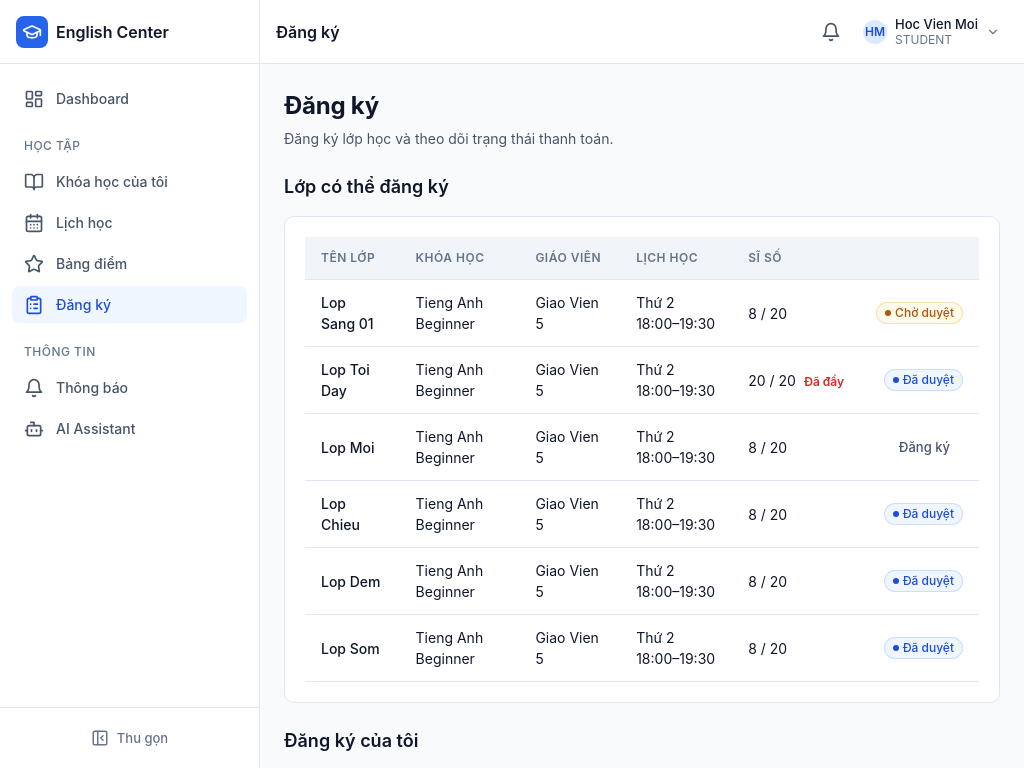
Test: StudentRegistrationsPage › shows backend 400 message when registration create fails
Expected: the heading "Đăng ký của tôi" is shown, top-left (284, 730), bottom-right (418, 751)
Step 1. Click the button with aria-label "Đăng ký lớp Lop Moi" → (924, 447), box top-left (886, 431), bottom-right (963, 463)
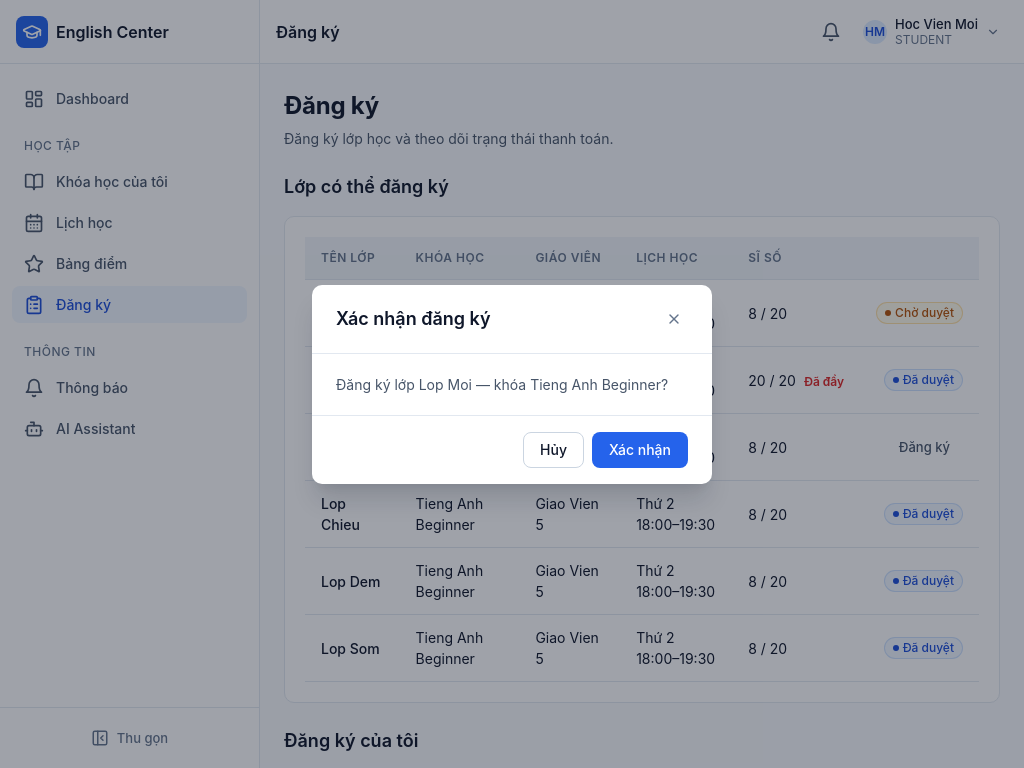
Step 2. Click the button "Xác nhận" → (640, 450), box top-left (592, 432), bottom-right (688, 468)
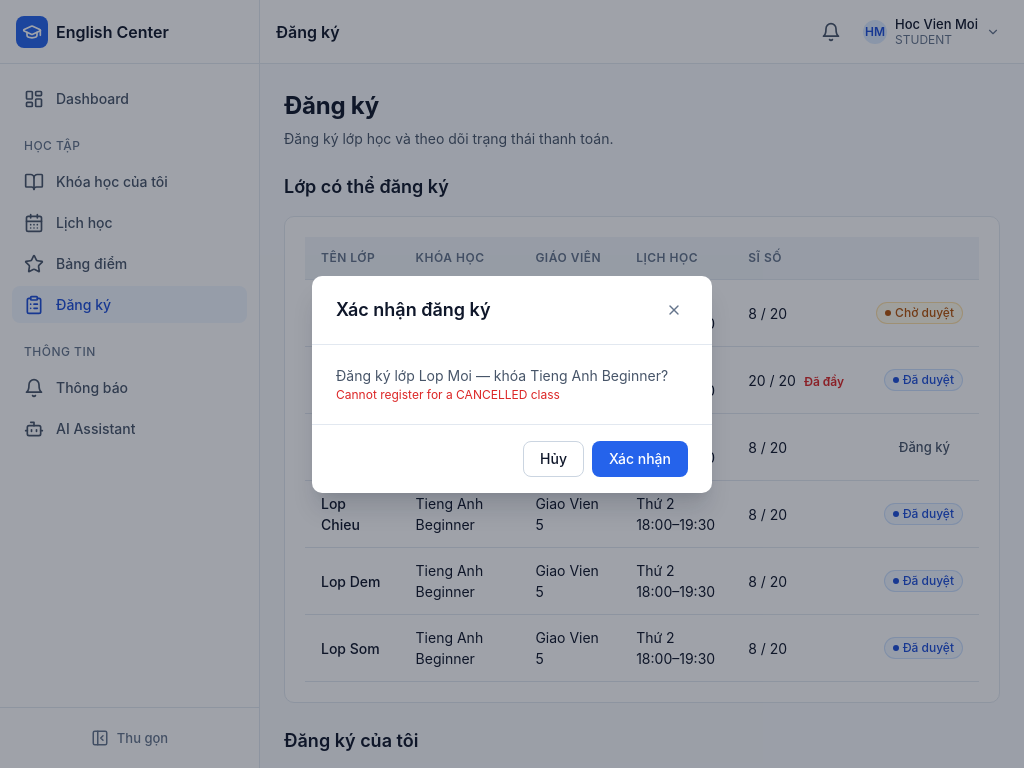
Now the text "Cannot register for a CANCELLED class" is shown, box top-left (336, 386), bottom-right (560, 402)
